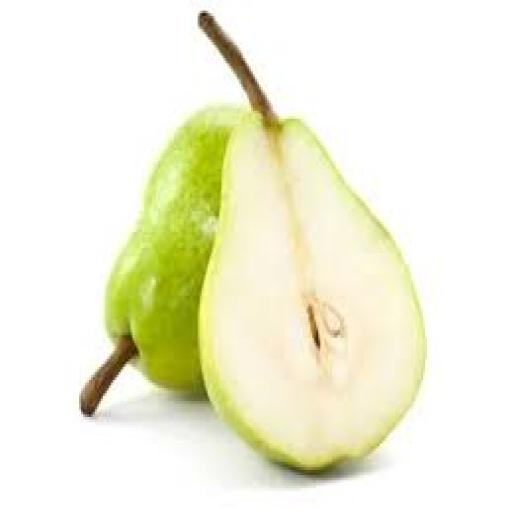Pear: (200, 14, 425, 469), (82, 109, 243, 414)
